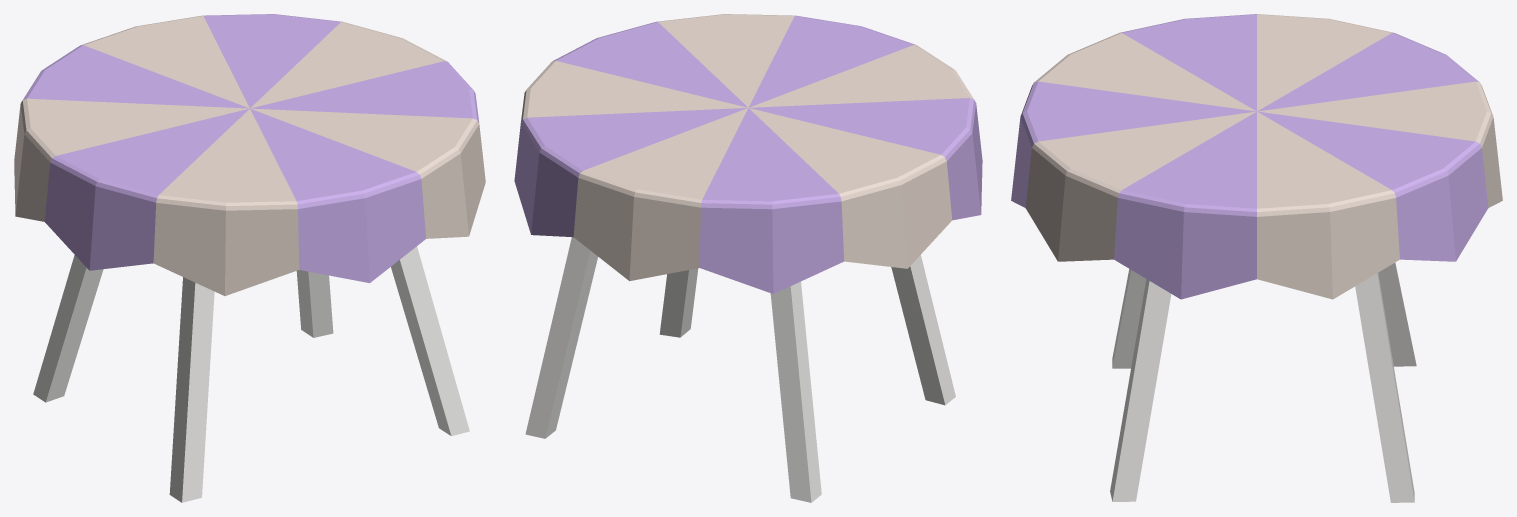
The model's file is Table_22.fbx.
The picture shows the model from 3 angles, left to right: view 1: azimuth 30°, elevation 25°; view 2: azimuth 150°, elevation 25°; view 3: azimuth 270°, elevation 25°; orthographic projection. The views are drawn at different scales.
Visible parts, largest first — view 1: Table_22; view 2: Table_22; view 3: Table_22.
Part boxes in pixels (x1=…): Table_22: x1=14, y1=14, x2=485, y2=502; Table_22: x1=514, y1=14, x2=982, y2=502; Table_22: x1=1011, y1=14, x2=1502, y2=502.
Size of the model in its own units: 160 by 162 by 115.
